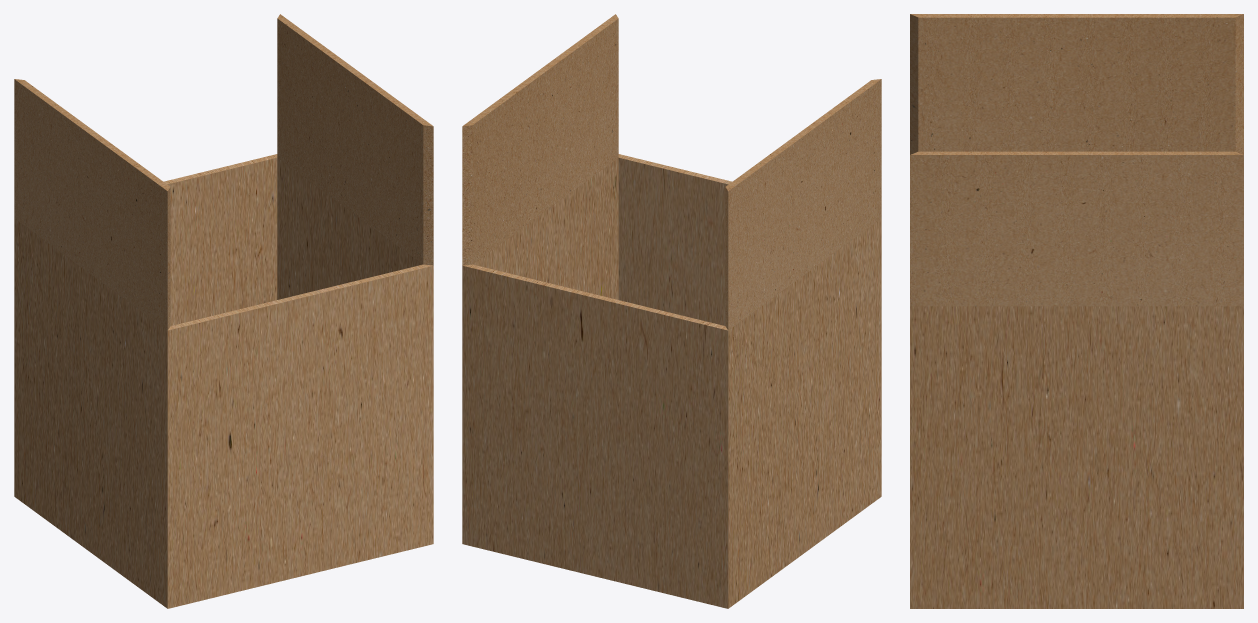
3 views of the same model, side by side, from view 1: azimuth 30°, elevation 25°; view 2: azimuth 150°, elevation 25°; view 3: azimuth 270°, elevation 25° (orthographic). The views are drawn at different scales.
Parts seen in each view (by area): view 1: Box, Box.001, Box.002; view 2: Box, Box.001, Box.002; view 3: Box, Box.002, Box.001.
Part boxes in pixels (x1,y1,x2,y2): Box: [14, 154, 433, 608]; Box.001: [14, 79, 170, 330]; Box.002: [277, 14, 433, 265]; Box: [462, 154, 881, 608]; Box.001: [725, 79, 881, 330]; Box.002: [462, 14, 618, 265]; Box: [910, 306, 1243, 608]; Box.002: [910, 151, 1243, 306]; Box.001: [910, 14, 1243, 154].
Size of the model in its own units: 100 by 150 by 100.
1 material, 1 textured.
